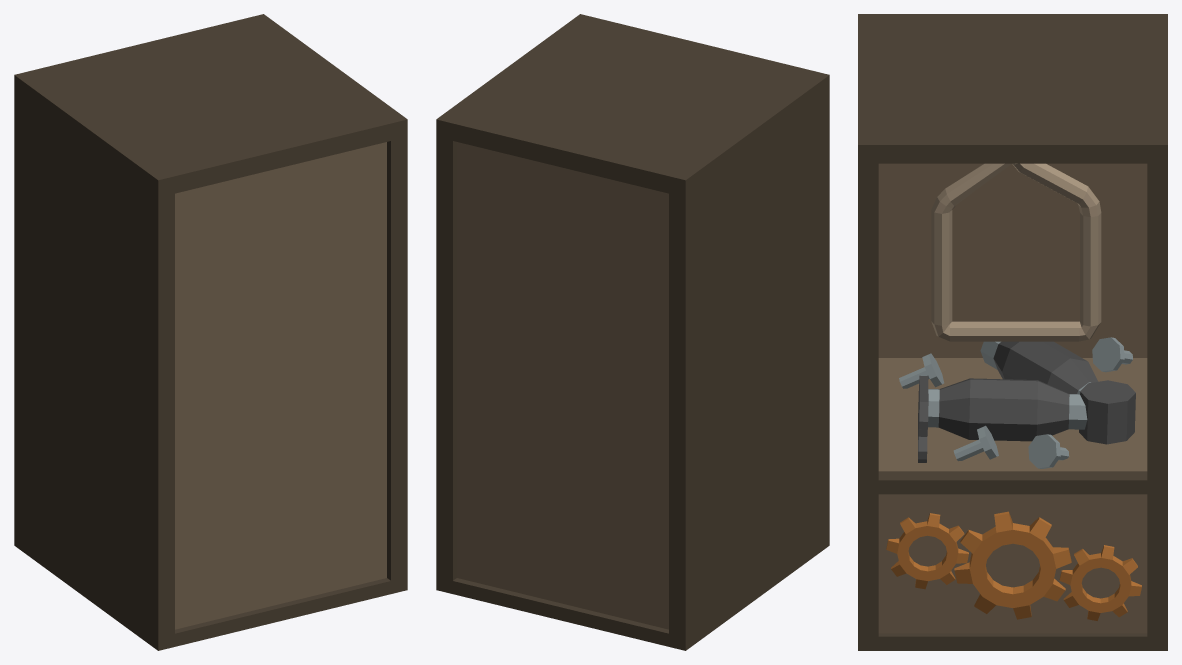
Rendered from case.glb.
3 renders of one model, left to right at view 1: azimuth 30°, elevation 25°; view 2: azimuth 150°, elevation 25°; view 3: azimuth 270°, elevation 25°, orthographic. The views are drawn at different scales.
Parts seen in each view (by area): view 1: Cube; view 2: Cube; view 3: Cube, Cube.001, Cube.002, Cylinder.001, Cylinder.
Boxes of the visible parts, x1=… form: Cube: x1=14, y1=14, x2=407, y2=650; Cube: x1=436, y1=14, x2=829, y2=650; Cube: x1=858, y1=14, x2=1167, y2=650; Cube.001: x1=918, y1=341, x2=1135, y2=462; Cube.002: x1=886, y1=511, x2=1141, y2=620; Cylinder.001: x1=931, y1=163, x2=1101, y2=341; Cylinder: x1=899, y1=337, x2=1132, y2=468.
Bounding box in the file's own units: 2.05 × 3.6 × 2.
2 materials, 2 textured.
